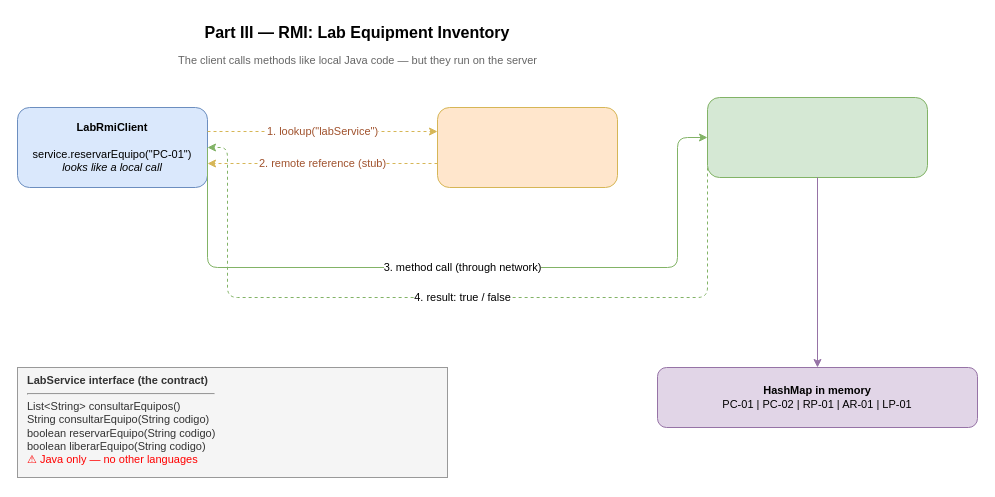
This 995x497 diagram has some shape labels left out. Here are the shapes that lost their labels. From the top down, the box of each, then its label:
(436, 106, 618, 188): RMI Registry port 24000 phone book for services
(706, 96, 928, 178): LabServiceImpl extends UnicastRemoteObject implements LabService
